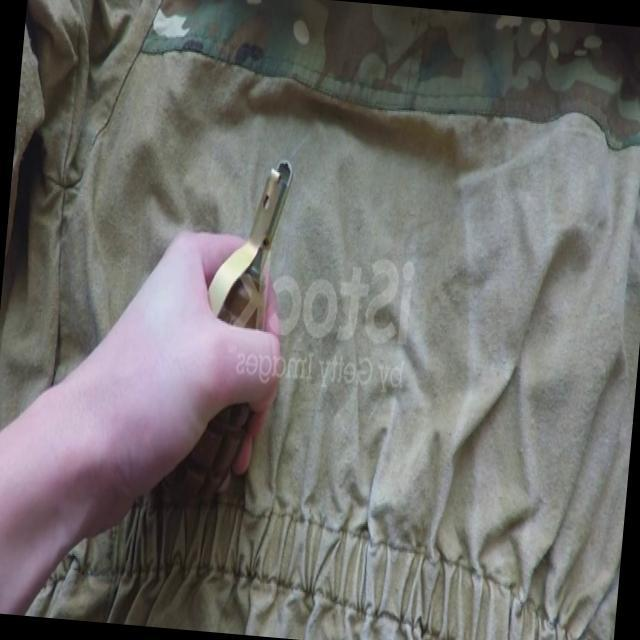grenade: (152, 148, 288, 516)
